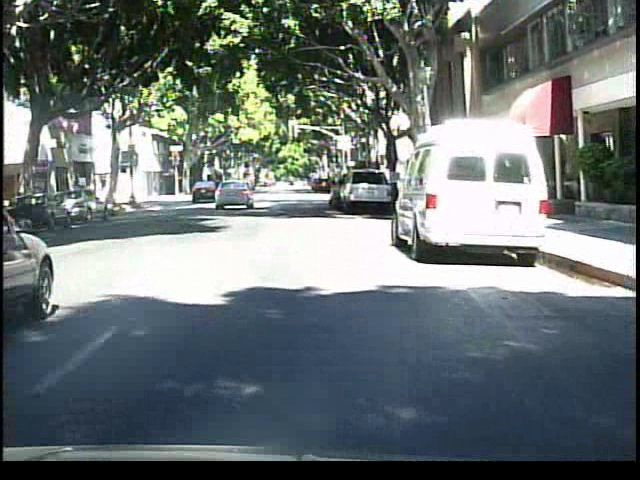person: (231, 171, 252, 206)
